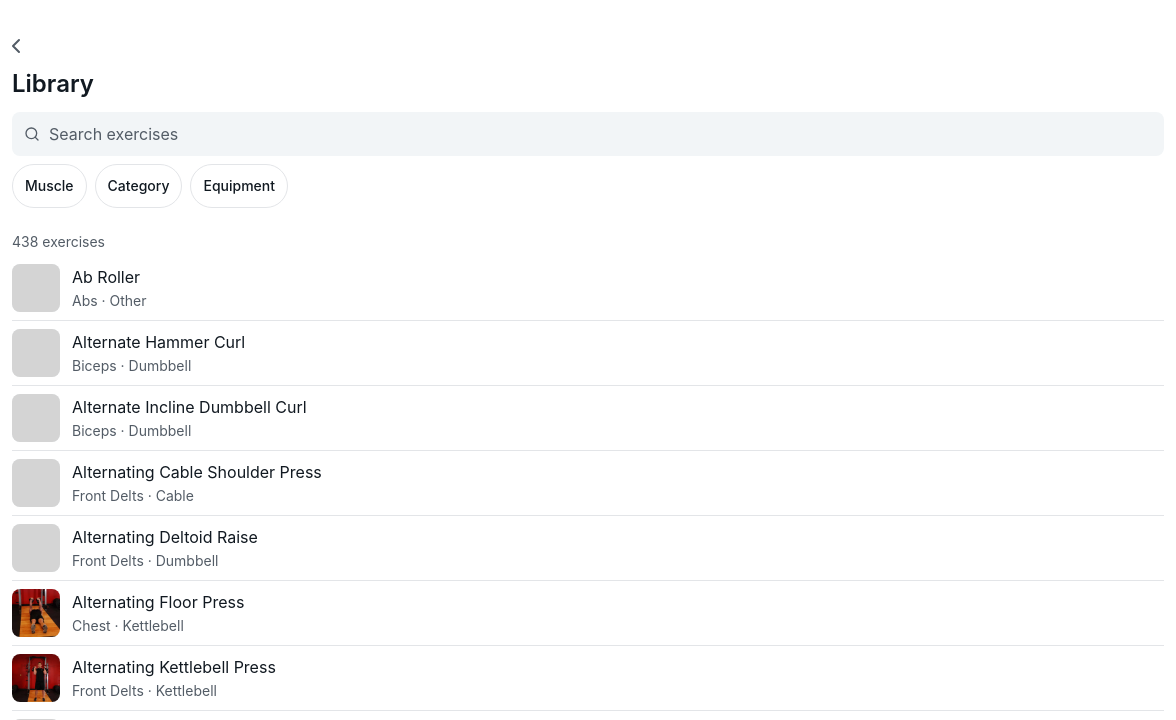
it: LibraryPage › clears the query via the search field's own clear button
Type "curl" into the search field labelled "Search exercises".
click(588, 134); type("curl")  # box x1=12 y1=112 x2=1164 y2=156
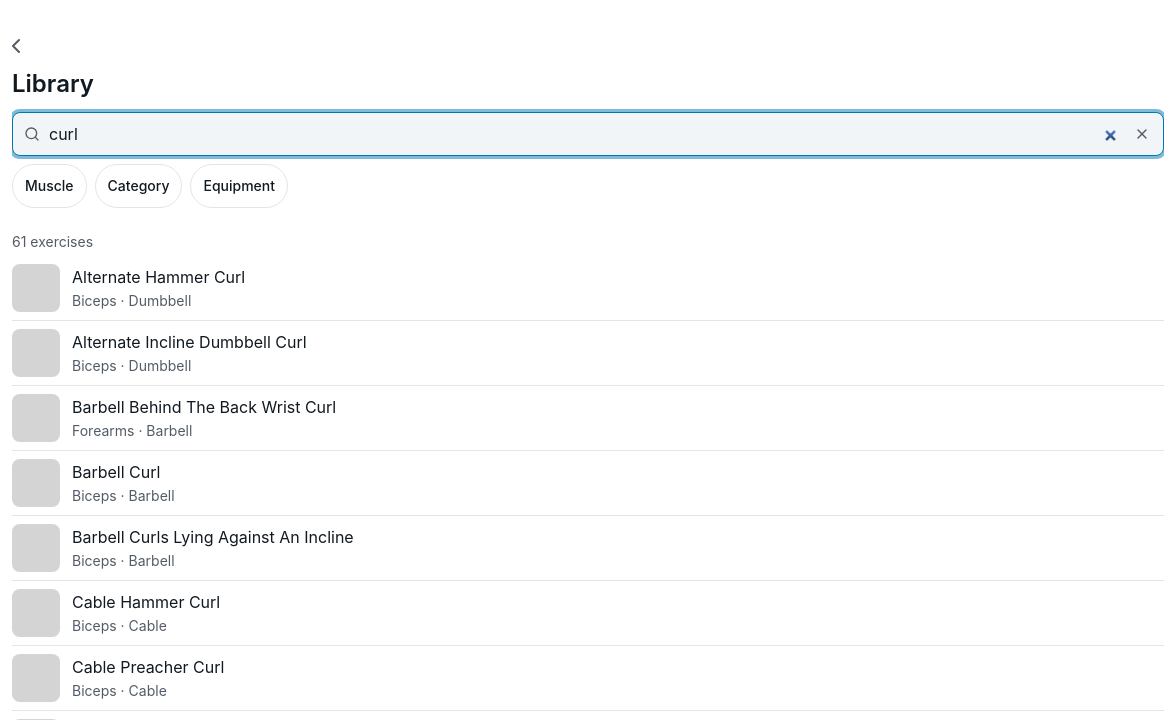
Click the button named "Clear search".
click(1142, 134)  # box x1=1120 y1=112 x2=1164 y2=156
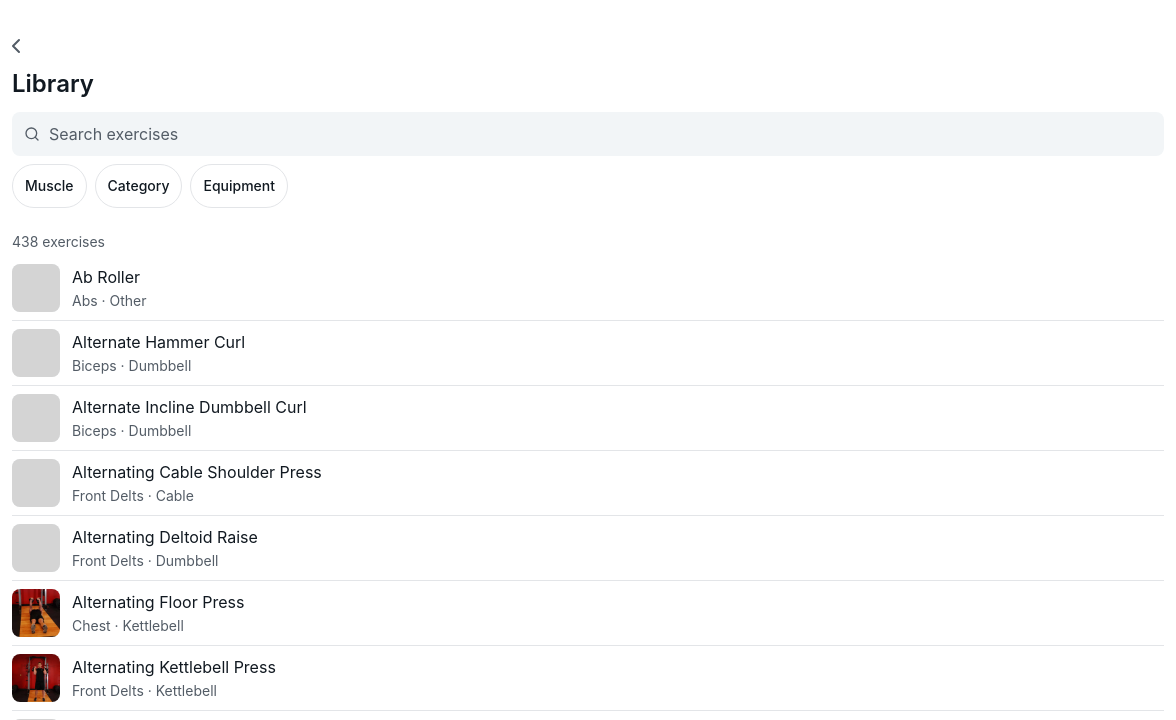
Now the search field labelled "Search exercises" is empty, box x1=12 y1=112 x2=1164 y2=156
